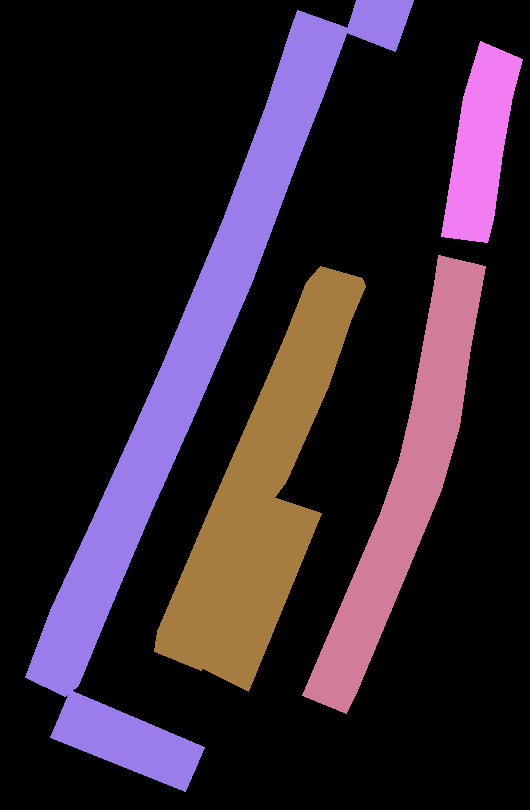parkingspot: (25, 10, 348, 696), (154, 266, 365, 670), (302, 255, 485, 713), (198, 496, 321, 691), (441, 41, 522, 242), (50, 690, 204, 791), (346, 0, 413, 51)
